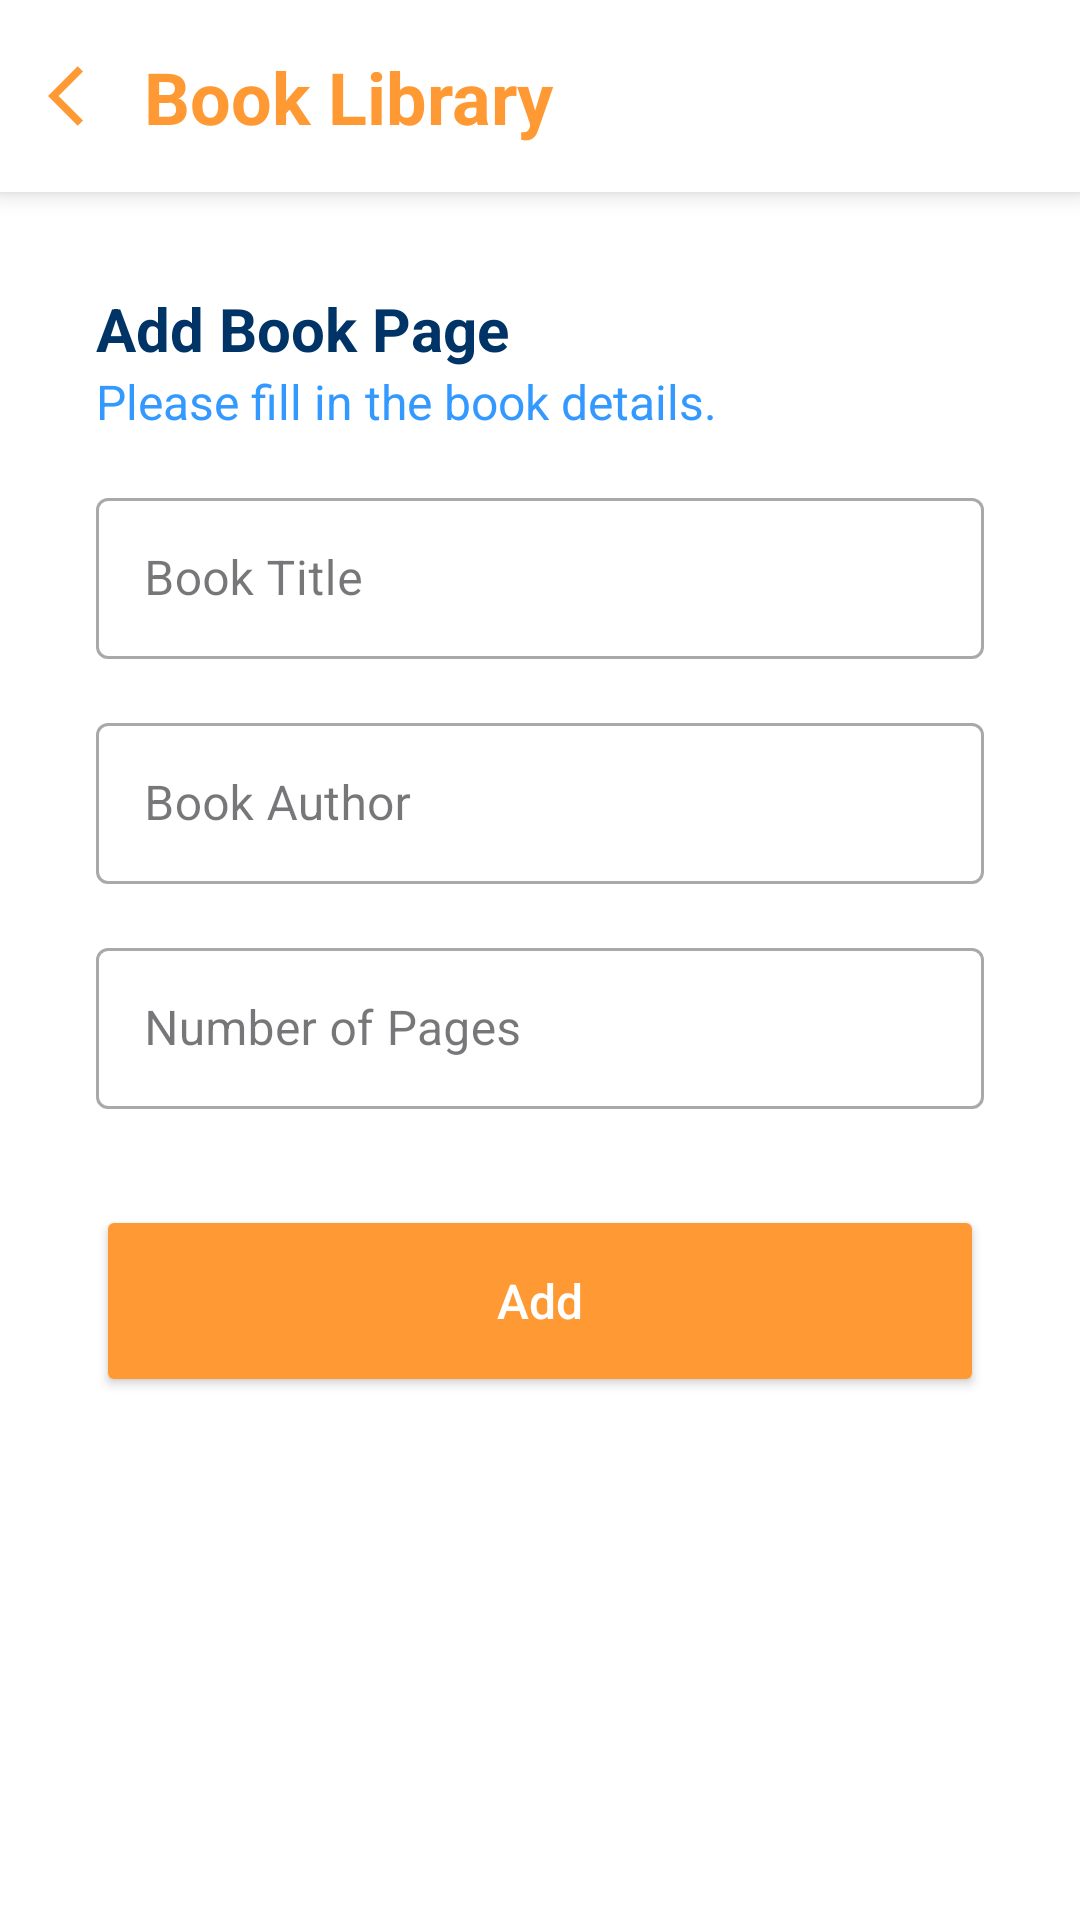

Icon click points for this 1080px x 1920px phone screenshot, format (x,y):
back: (65,96)
